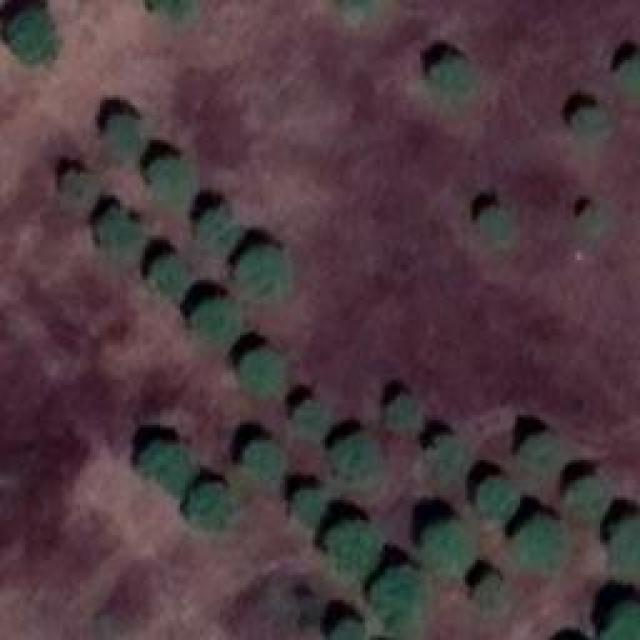Tree: (232, 240, 290, 303), (373, 563, 426, 626), (5, 10, 63, 65), (140, 440, 195, 493), (323, 518, 376, 573), (515, 515, 568, 570), (190, 297, 238, 355), (148, 148, 193, 203), (430, 58, 478, 108), (422, 523, 470, 573), (332, 435, 380, 483), (240, 440, 285, 488), (58, 170, 101, 215), (95, 208, 138, 253), (238, 345, 283, 388), (423, 430, 466, 475), (475, 478, 520, 521), (563, 478, 608, 521), (100, 115, 143, 158), (190, 485, 230, 530), (288, 402, 328, 440), (390, 395, 423, 438), (520, 435, 555, 475), (605, 600, 640, 640), (610, 520, 640, 565), (195, 207, 230, 245), (150, 255, 185, 290), (288, 488, 321, 523), (573, 105, 603, 140), (478, 208, 508, 243), (327, 617, 364, 640), (475, 577, 503, 605), (622, 57, 640, 95)
